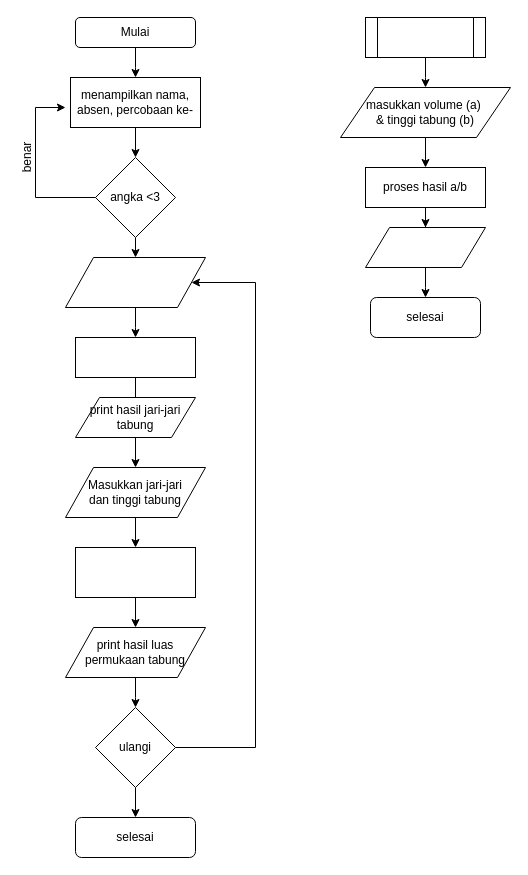
Some shapes in this 528 by 875 pixel diagram are drawn without their labels. The shapes that lost their labels are listed below. From the top down, each one's centre as x and y in pixels, then its label:
the point at 425,37: int pembagian
the point at 425,247: print hasil
the point at 135,282: masukkan volume & tinggi tabung
the point at 135,357: proses penghitungan jari-jari tabung sqrt = vol/(tinggi*3.14)
the point at 135,572: proses penghitungan luas permukaan tabung
